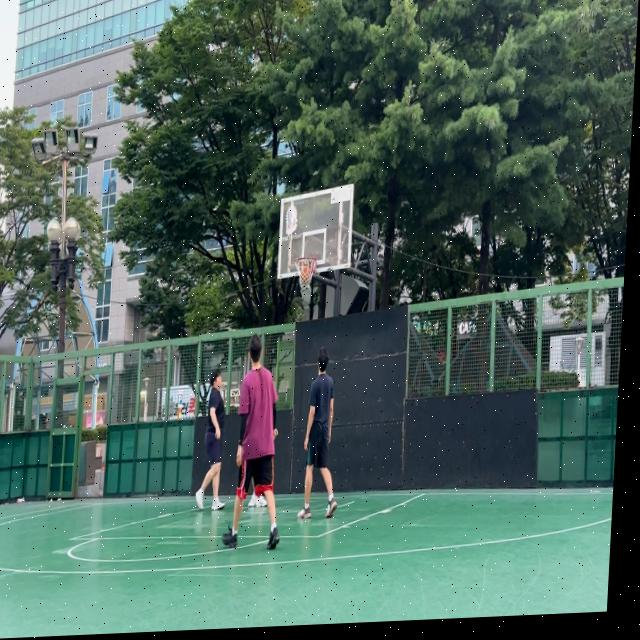basketball: (299, 265, 312, 286)
hoop: (293, 256, 317, 293), (294, 256, 317, 294)
